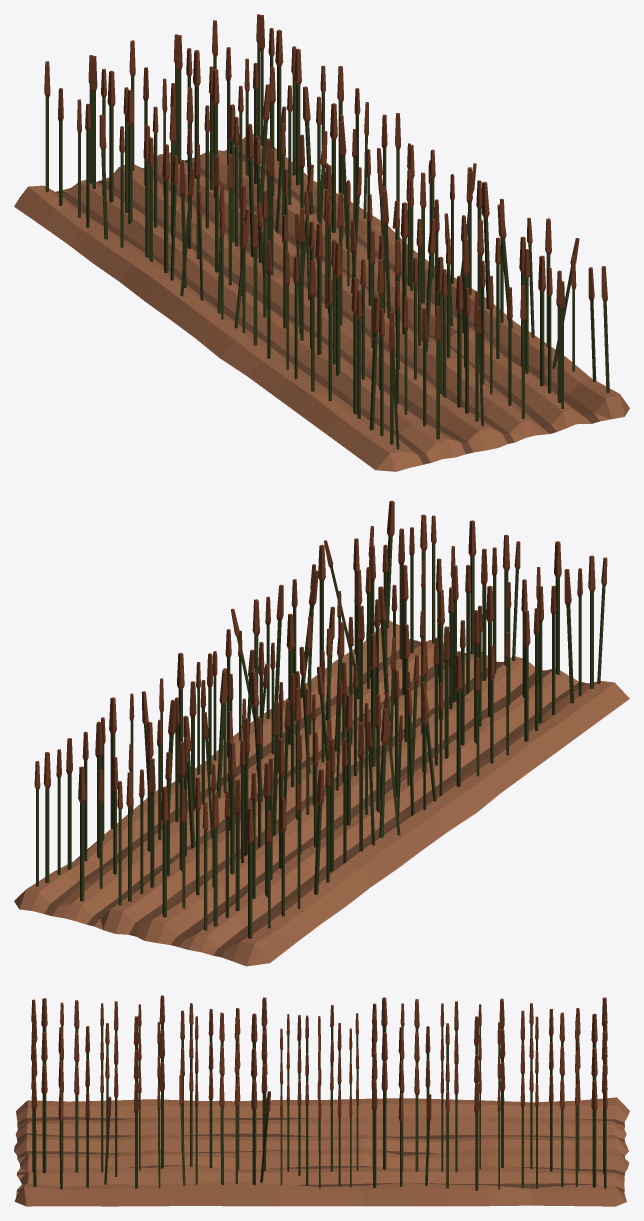
The model's file is Field_Wheat_M.fbx.
The picture shows the model from 3 angles, top to bottom: view 1: azimuth 30°, elevation 25°; view 2: azimuth 150°, elevation 25°; view 3: azimuth 270°, elevation 25°; orthographic projection. The views are drawn at different scales.
Parts seen in each view (by area): view 1: Field_Wheat_M; view 2: Field_Wheat_M; view 3: Field_Wheat_M.
Boxes of the visible parts, x1,y1,x2,y2 form: Field_Wheat_M: [14, 14, 629, 471]; Field_Wheat_M: [14, 500, 629, 966]; Field_Wheat_M: [14, 995, 629, 1206].
Size of the model in its own units: 5.25 by 2.88 by 13.38.
